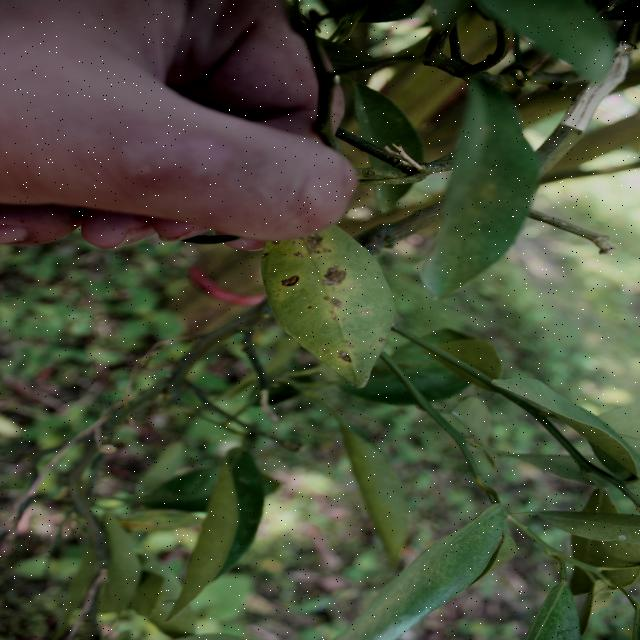canker: (268, 235, 386, 371), (451, 151, 527, 229)
